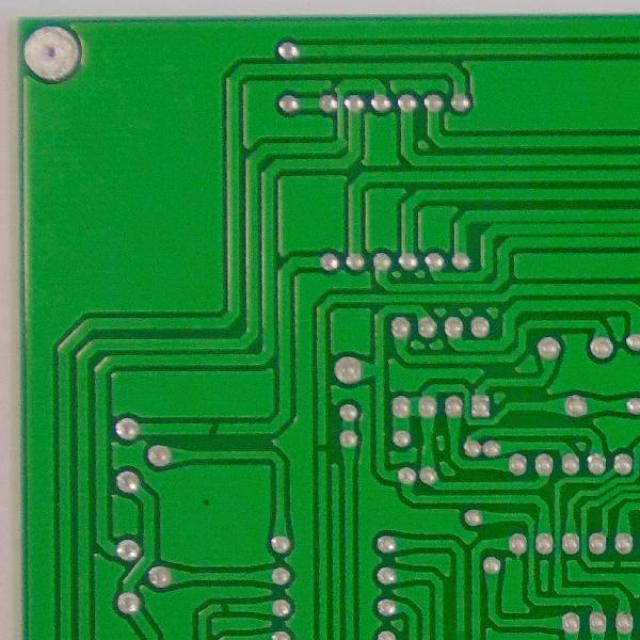open_circuit: (204, 421, 222, 438), (314, 440, 330, 458), (217, 600, 234, 616), (609, 558, 624, 571)
